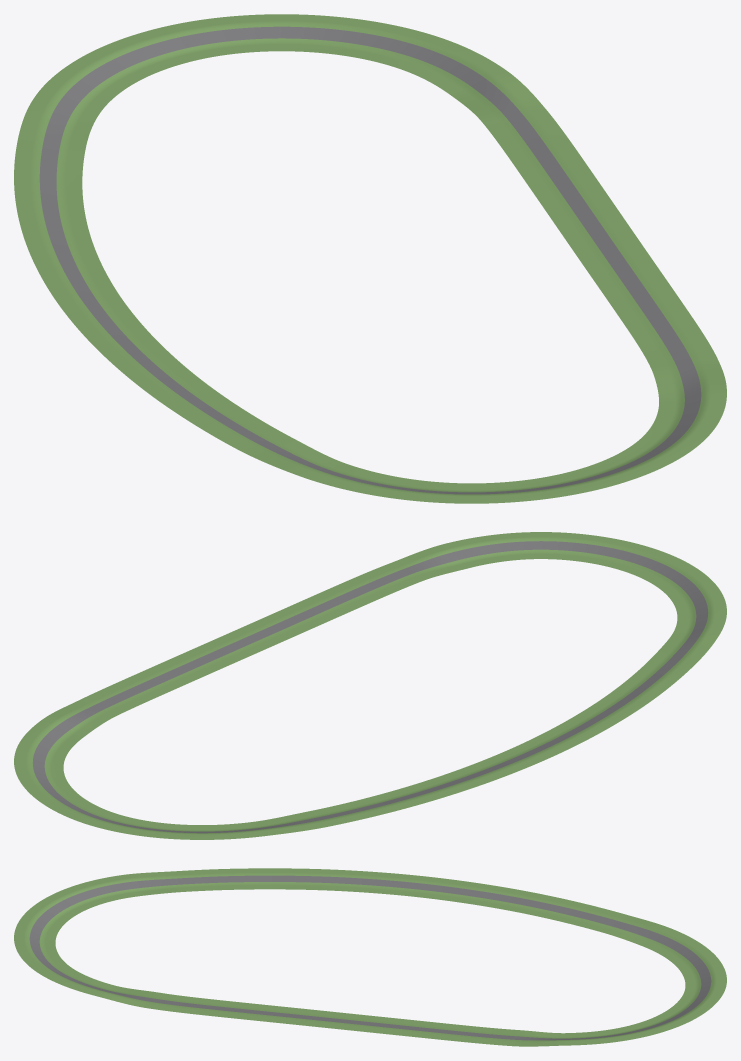
The model's file is road_mesh.glb.
3 renders of one model, top to bottom at view 1: azimuth 30°, elevation 25°; view 2: azimuth 150°, elevation 25°; view 3: azimuth 270°, elevation 25°, orthographic. The views are drawn at different scales.
Parts seen in each view (by area): view 1: road_12, road_13, road_14, road_11, road_15, road_09, road_08, road_10, road_07, road_16, road_06, road_17 (+6 smaller); view 2: road_05, road_06, road_04, road_11, road_08, road_09, road_07, road_10, road_03, road_12, road_02, road_01 (+6 smaller); view 3: road_03, road_02, road_00, road_01, road_17, road_15, road_16, road_14, road_04, road_08, road_09, road_07 (+6 smaller).
Boxes of the visible parts, x1,y1,x2,y2 form: road_12: (290,14,453,72); road_13: (129,14,293,67); road_14: (34,36,170,113); road_11: (409,43,544,119); road_15: (14,98,98,174); road_09: (525,170,633,243); road_08: (568,233,676,305); road_10: (480,107,590,180); road_07: (612,295,717,366); road_16: (14,168,90,236); road_06: (650,358,726,427); road_17: (23,233,120,300); road_05: (495,532,621,564); road_06: (389,534,507,581); road_04: (601,540,709,592); road_11: (18,702,113,755); road_08: (230,598,343,648); road_09: (153,632,265,683); road_07: (308,564,420,614); road_10: (76,667,188,716); road_03: (665,578,726,634); road_12: (14,744,78,797); road_02: (634,630,720,679); road_01: (579,674,677,721); road_03: (43,874,141,914); road_02: (130,869,229,895); road_00: (320,869,419,896); road_01: (227,868,323,890); road_17: (410,876,511,908); road_15: (577,907,677,948); road_16: (497,888,597,925); road_14: (648,931,725,978); road_04: (14,899,76,946); road_08: (239,1003,340,1028); road_09: (331,1012,431,1037); road_07: (147,993,248,1018).
Bounding box in the file's own units: 803 × 11.93 × 1357.
